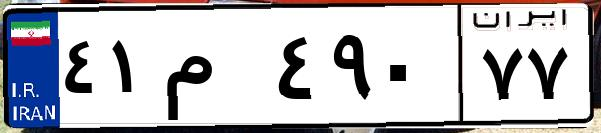0: (385, 28, 445, 110)
1: (110, 28, 158, 98)
4: (270, 28, 330, 110), (57, 26, 110, 100)
7: (475, 38, 525, 113), (525, 38, 570, 115)
9: (330, 28, 385, 110)
م: (158, 20, 270, 120)
